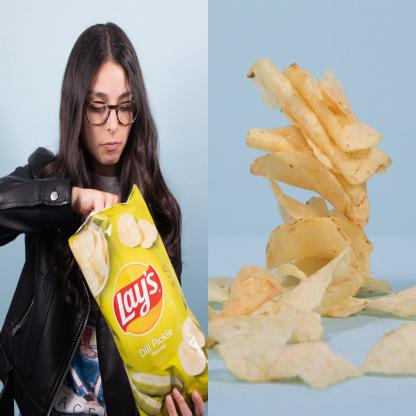potatochip: (61, 180, 221, 416)
